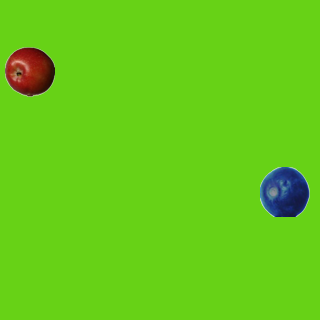Apple Braeburn: (4, 46, 54, 96)
Huckleberry: (259, 166, 309, 216)
